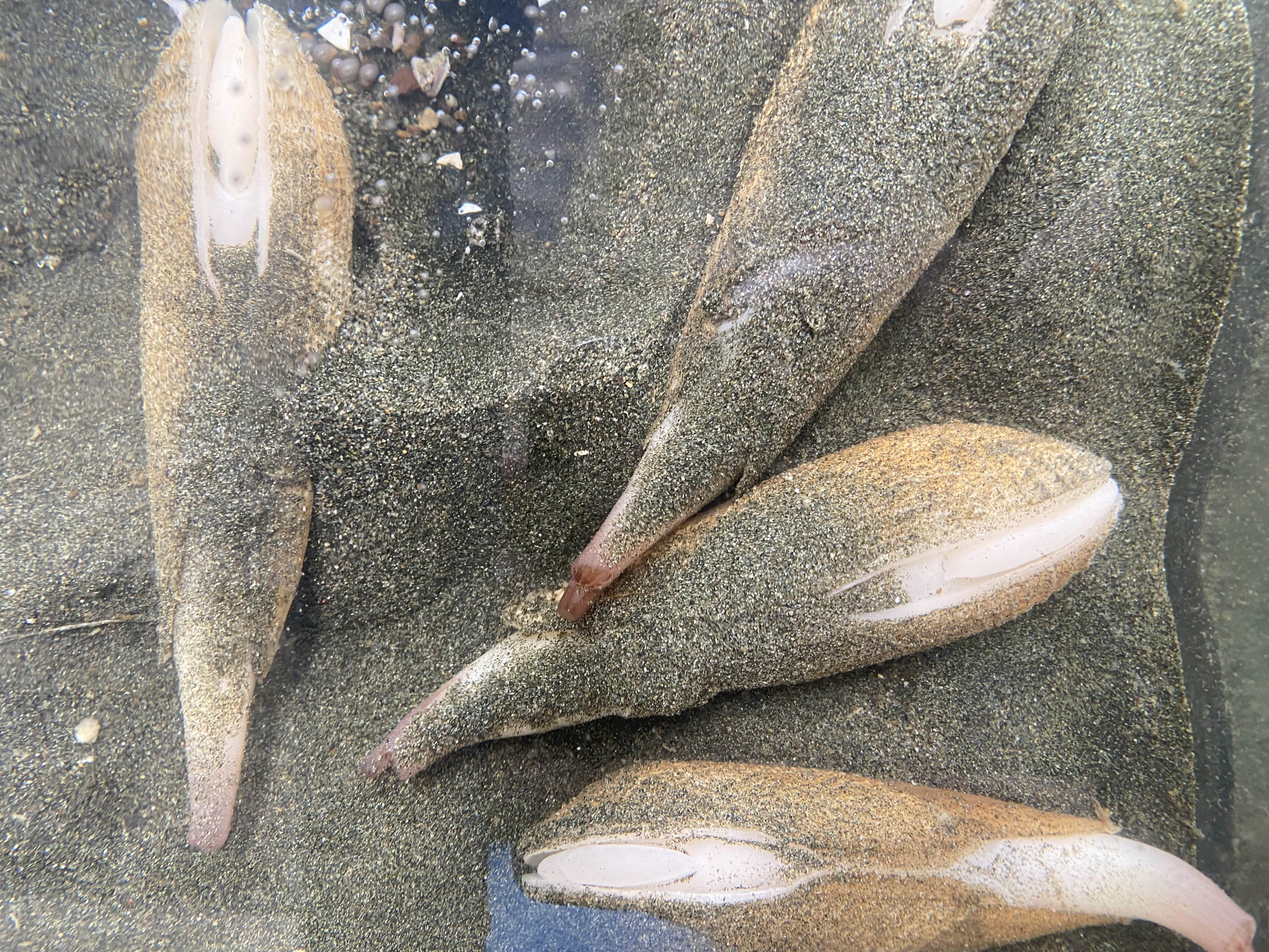Healthy: (560, 0, 1073, 617), (372, 423, 1120, 776), (136, 0, 352, 850), (520, 762, 1255, 952), (362, 632, 649, 780)
